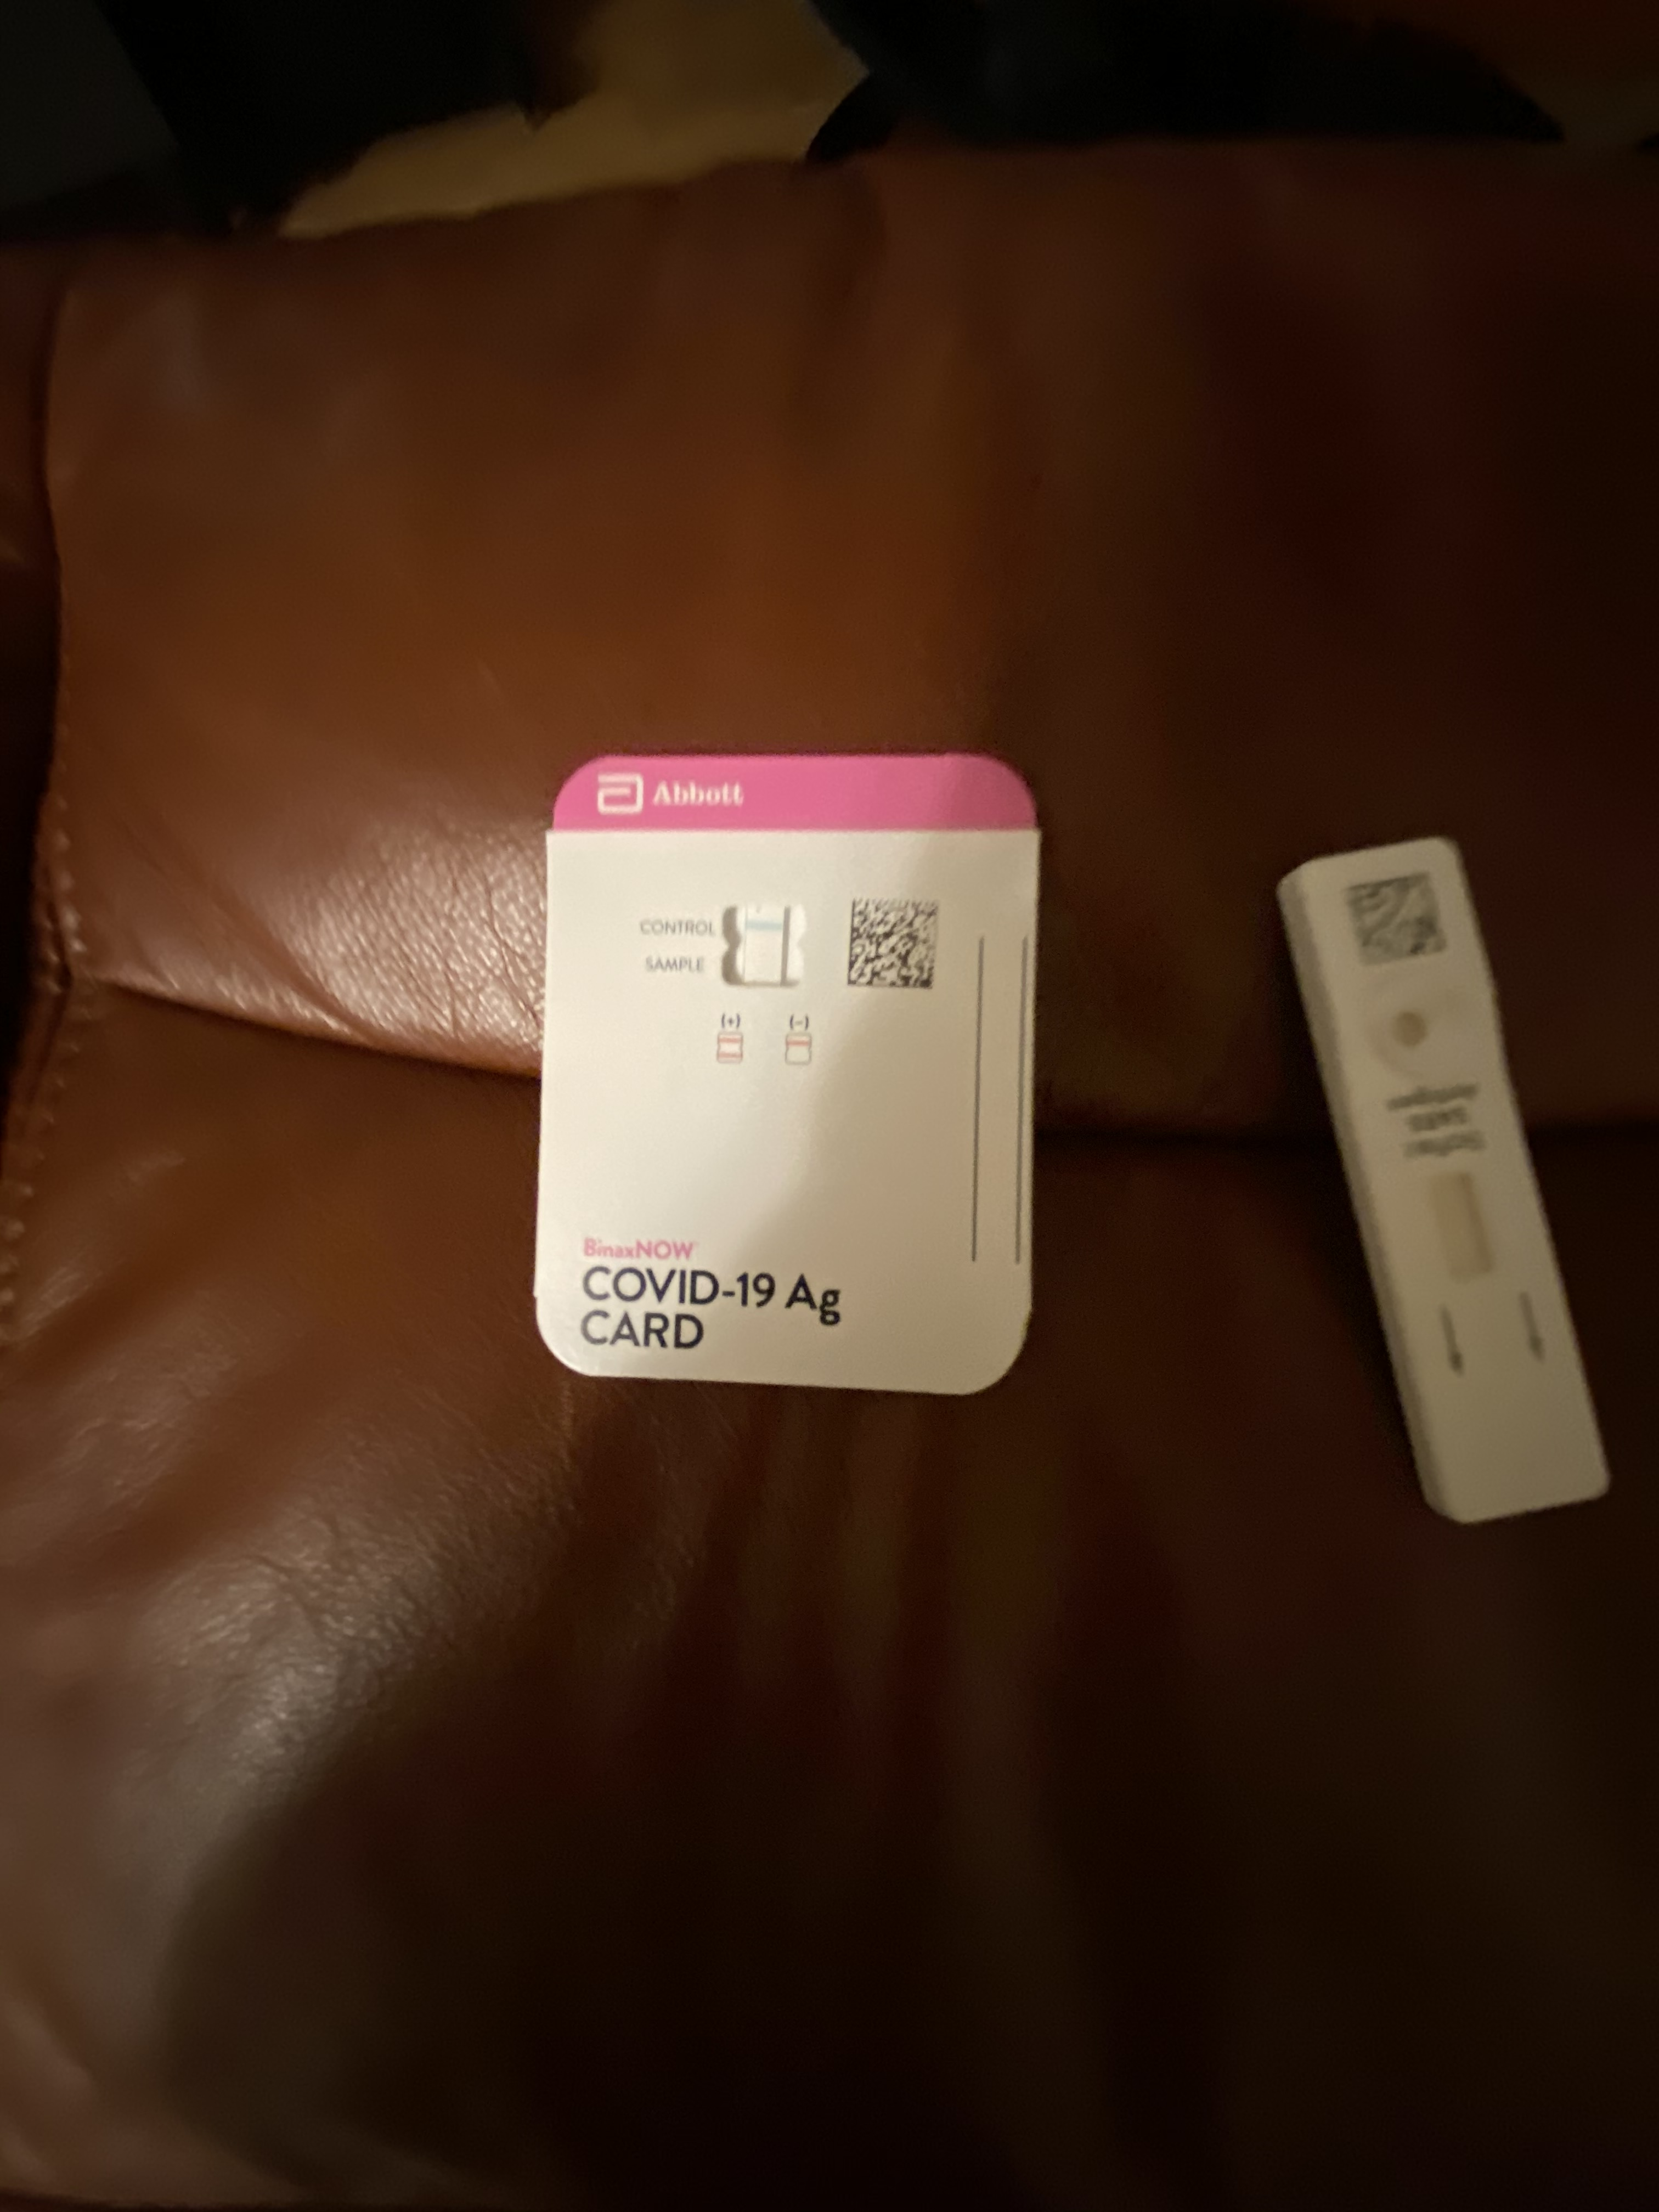binax: (526, 752, 1061, 1402)
quidel: (1274, 831, 1626, 1538)
